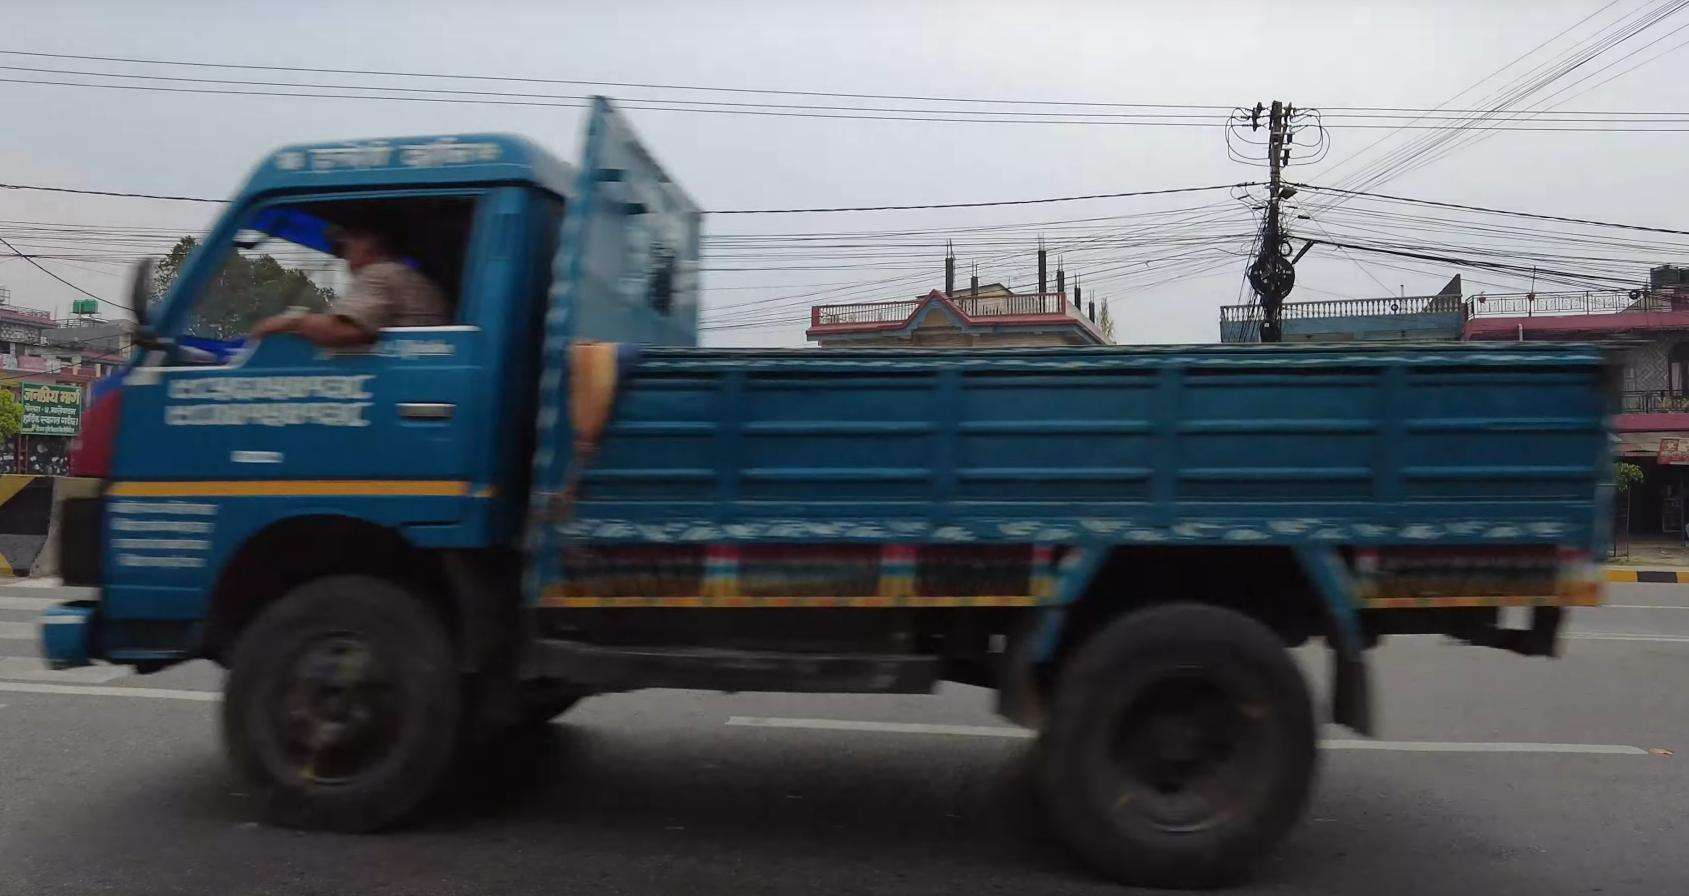mini_truck: (26, 91, 1630, 896)
